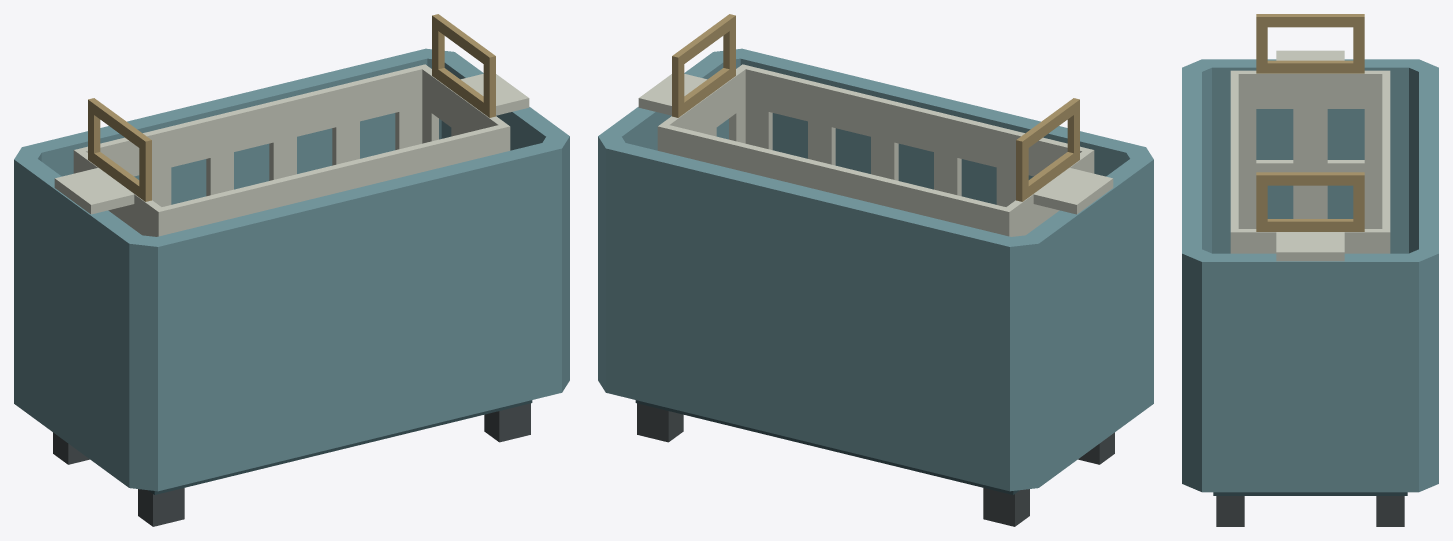
3 views of the same model, side by side, from view 1: azimuth 30°, elevation 25°; view 2: azimuth 150°, elevation 25°; view 3: azimuth 270°, elevation 25° (orthographic). The views are drawn at different scales.
Parts seen in each view (by area): view 1: WholeChamferedDeepOuterVat, WholeFourWallPerforatedBasketWithEndEars, CompleteEndLiftRing_1, CompleteEndLiftRing_-1, WholeFlatFoot_1_1, WholeFlatFoot_2_1, WholeLowClosedSupportFrame; view 2: WholeChamferedDeepOuterVat, WholeFourWallPerforatedBasketWithEndEars, CompleteEndLiftRing_1, CompleteEndLiftRing_-1, WholeFlatFoot_1_2, WholeFlatFoot_2_2, WholeLowClosedSupportFrame; view 3: WholeChamferedDeepOuterVat, WholeFourWallPerforatedBasketWithEndEars, CompleteEndLiftRing_-1, CompleteEndLiftRing_1, WholeFlatFoot_2_1, WholeFlatFoot_2_2, WholeLowClosedSupportFrame.
Boxes of the visible parts, x1,y1,x2,y2 form: WholeChamferedDeepOuterVat: (14, 48, 569, 491); WholeFourWallPerforatedBasketWithEndEars: (54, 64, 529, 236); CompleteEndLiftRing_1: (432, 14, 495, 117); CompleteEndLiftRing_-1: (88, 98, 151, 201); WholeFlatFoot_1_1: (138, 488, 184, 526); WholeFlatFoot_2_1: (484, 403, 530, 442); WholeLowClosedSupportFrame: (148, 400, 532, 494); WholeChamferedDeepOuterVat: (598, 48, 1153, 491); WholeFourWallPerforatedBasketWithEndEars: (638, 64, 1113, 236); CompleteEndLiftRing_1: (672, 14, 735, 117); CompleteEndLiftRing_-1: (1016, 98, 1079, 201); WholeFlatFoot_1_2: (983, 488, 1029, 526); WholeFlatFoot_2_2: (637, 403, 683, 442); WholeLowClosedSupportFrame: (635, 400, 1019, 494); WholeChamferedDeepOuterVat: (1182, 59, 1438, 492); WholeFourWallPerforatedBasketWithEndEars: (1230, 50, 1390, 261); CompleteEndLiftRing_-1: (1256, 14, 1364, 73); CompleteEndLiftRing_1: (1256, 172, 1364, 231); WholeFlatFoot_2_1: (1216, 496, 1244, 526); WholeFlatFoot_2_2: (1376, 496, 1404, 526); WholeLowClosedSupportFrame: (1213, 492, 1407, 495).
Bounding box in the file's own units: 1.68 × 1.34 × 0.9.
